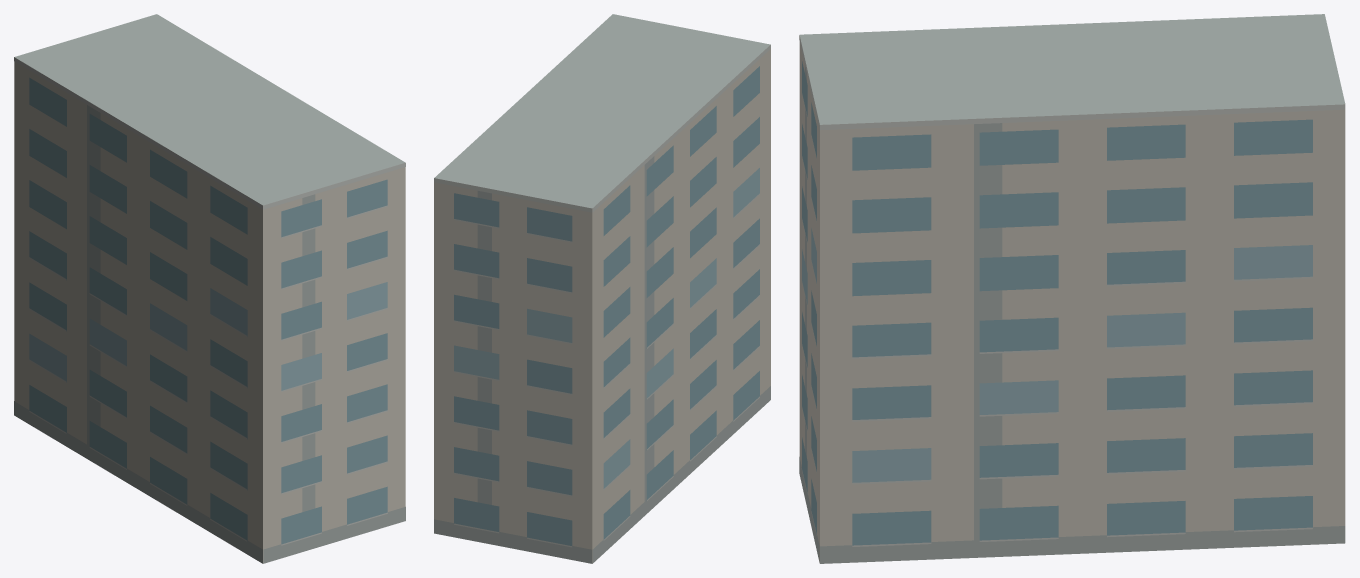
The model's file is survey-upis-32607332.glb.
3 renders of one model, left to right at view 1: azimuth 30°, elevation 25°; view 2: azimuth 150°, elevation 25°; view 3: azimuth 270°, elevation 25°, orthographic. The views are drawn at different scales.
Parts seen in each view (by area): view 1: survey-upis-32607332.tmp; view 2: survey-upis-32607332.tmp; view 3: survey-upis-32607332.tmp.
Boxes of the visible parts, box(x1,y1,x2,y2) form: survey-upis-32607332.tmp: box(14, 14, 405, 563); survey-upis-32607332.tmp: box(434, 14, 770, 563); survey-upis-32607332.tmp: box(799, 14, 1345, 563).
Bounding box in the file's own units: 11.01 × 20.3 × 22.89.
